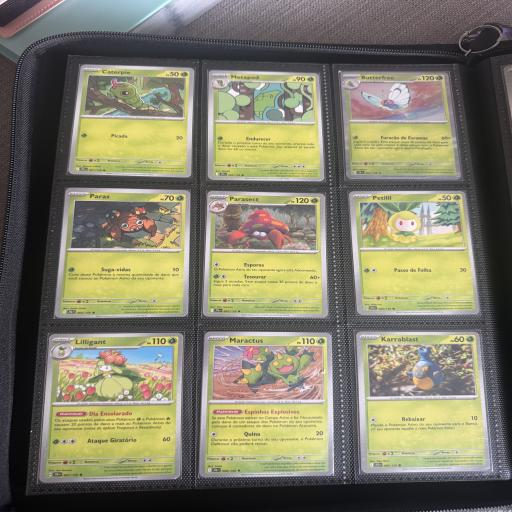card: (37, 333, 185, 483), (354, 324, 491, 477), (198, 330, 333, 477), (348, 182, 480, 323), (54, 187, 190, 321), (202, 190, 331, 318), (67, 64, 195, 178), (339, 71, 463, 180), (207, 70, 326, 181)
